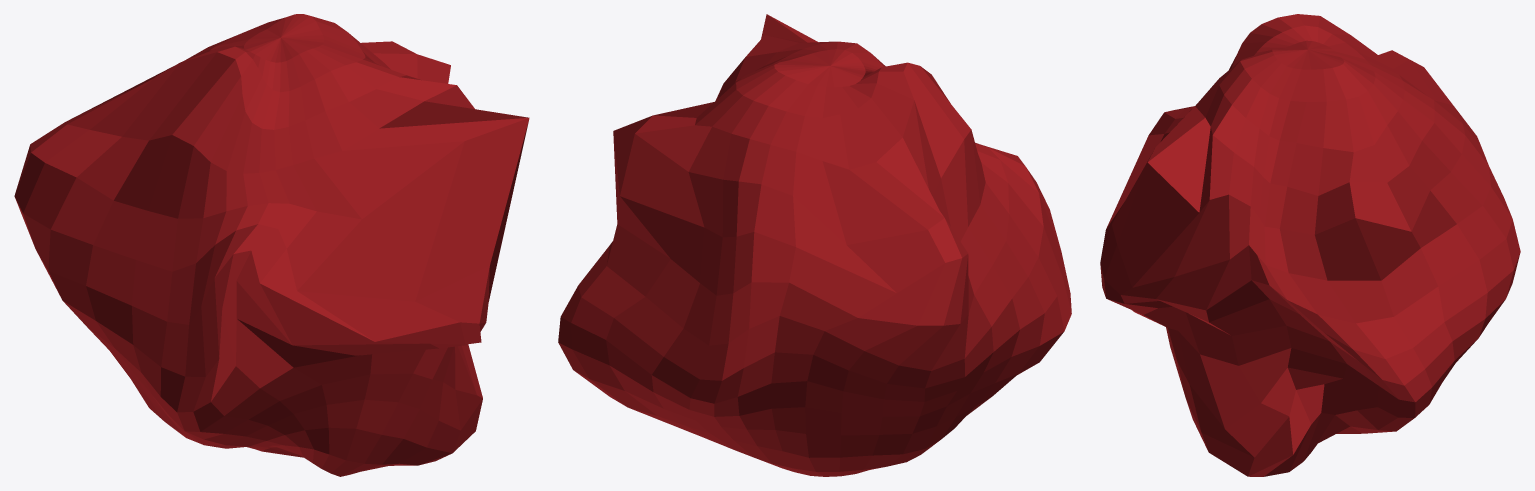
Rendered from obstacle.glb.
The picture shows the model from 3 angles, left to right: view 1: azimuth 30°, elevation 25°; view 2: azimuth 150°, elevation 25°; view 3: azimuth 270°, elevation 25°; orthographic projection. The views are drawn at different scales.
Parts seen in each view (by area): view 1: Obstacle; view 2: Obstacle; view 3: Obstacle.
Part boxes in pixels (x1,y1,x2,y2): Obstacle: (14, 14, 529, 476); Obstacle: (558, 14, 1071, 476); Obstacle: (1100, 14, 1520, 476).
Bounding box in the file's own units: 4.83 × 4.7 × 4.77.
